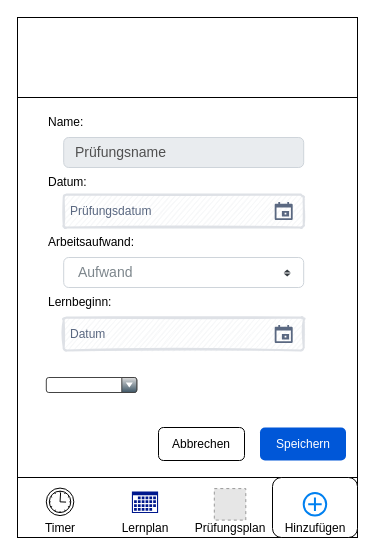
This 375x560 diagram has some shape labels left out. Grey dashed boxes stand in for pictures. The centre of each missing label's shape, as x and y in pixels:
Lernhelfer: point 187,57
Schwierigkeit: point 91,384
